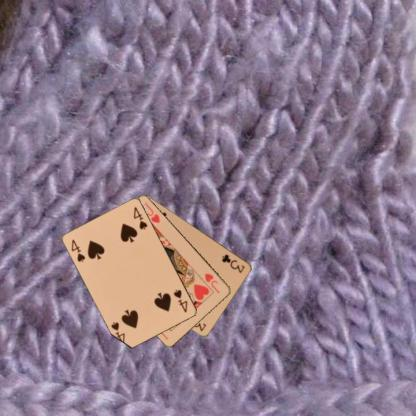3c: (220, 252, 246, 274)
4s: (171, 287, 189, 314), (68, 237, 86, 263)
Jh: (202, 270, 221, 295)
